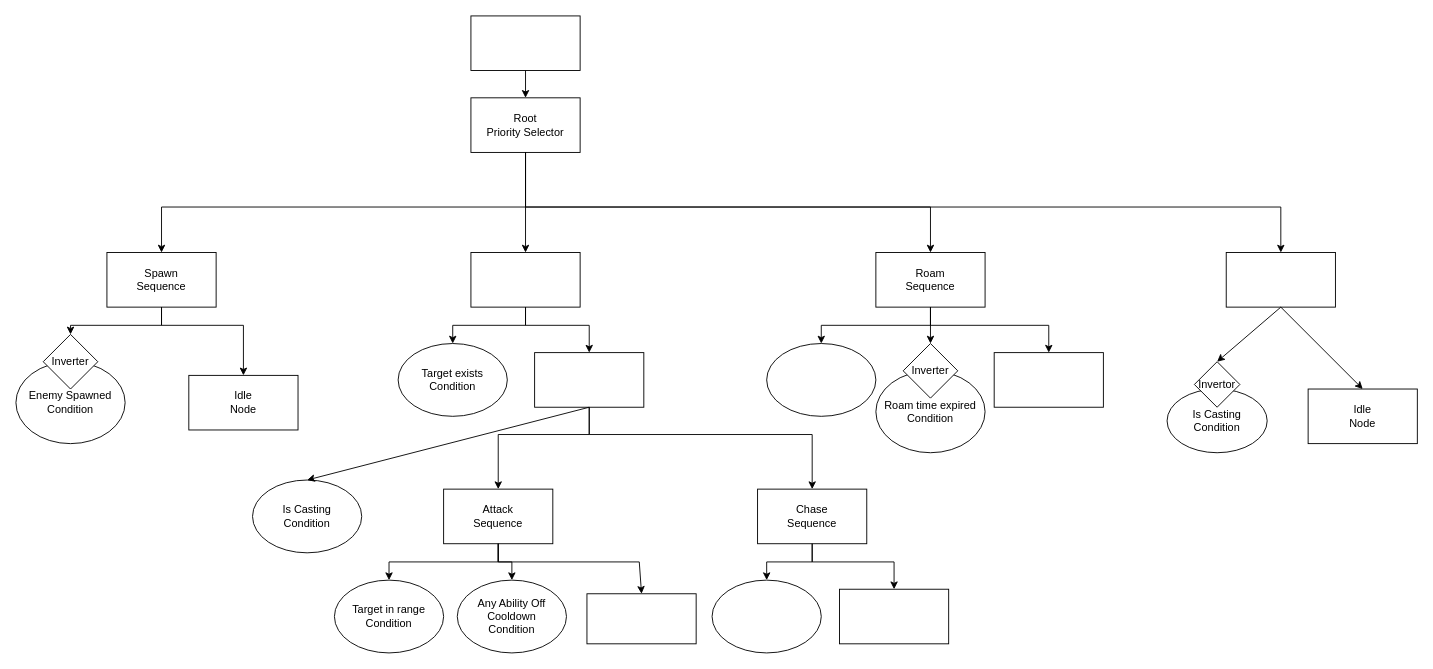
Image size: 1433x669. Some labels were removed from this diagram. Each missing label, with the box of its shape:
Cast Ability Node: (586, 593, 696, 644)
Chase Node: (839, 588, 949, 644)
Combat Selector: (534, 352, 644, 407)
Combat Sequence: (470, 252, 580, 307)
Devil_Boss BT: (470, 15, 580, 71)
Idle Sequence: (1225, 252, 1335, 307)
Move to roam position Node: (993, 352, 1103, 407)
Roam Position Exists Condition: (766, 343, 876, 416)
Target in chase range Condition: (711, 579, 821, 653)
